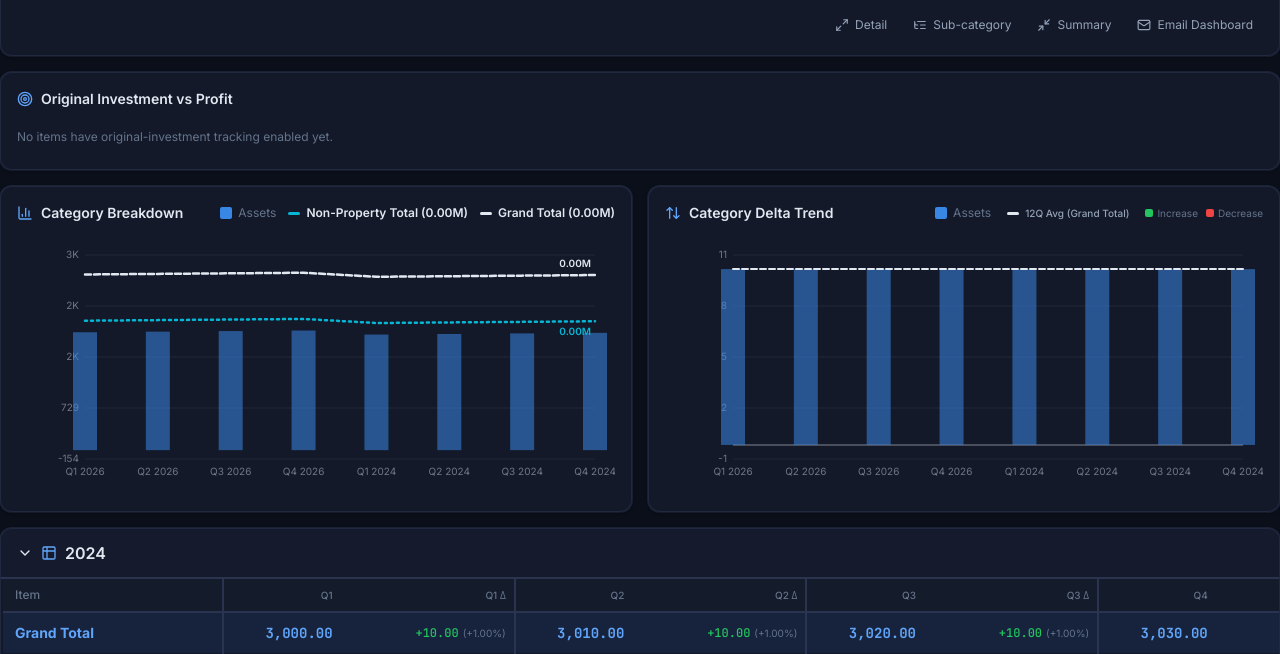
Test: TrackingDashboardPage — Year table collapse › replaces a year's whole table with a collapsed header bar, without affecting the other year's table
This screenshot has width=1280, height=654.
Click the button named "Collapse 2024 table" at (85,553), box [1,529,1279,579]
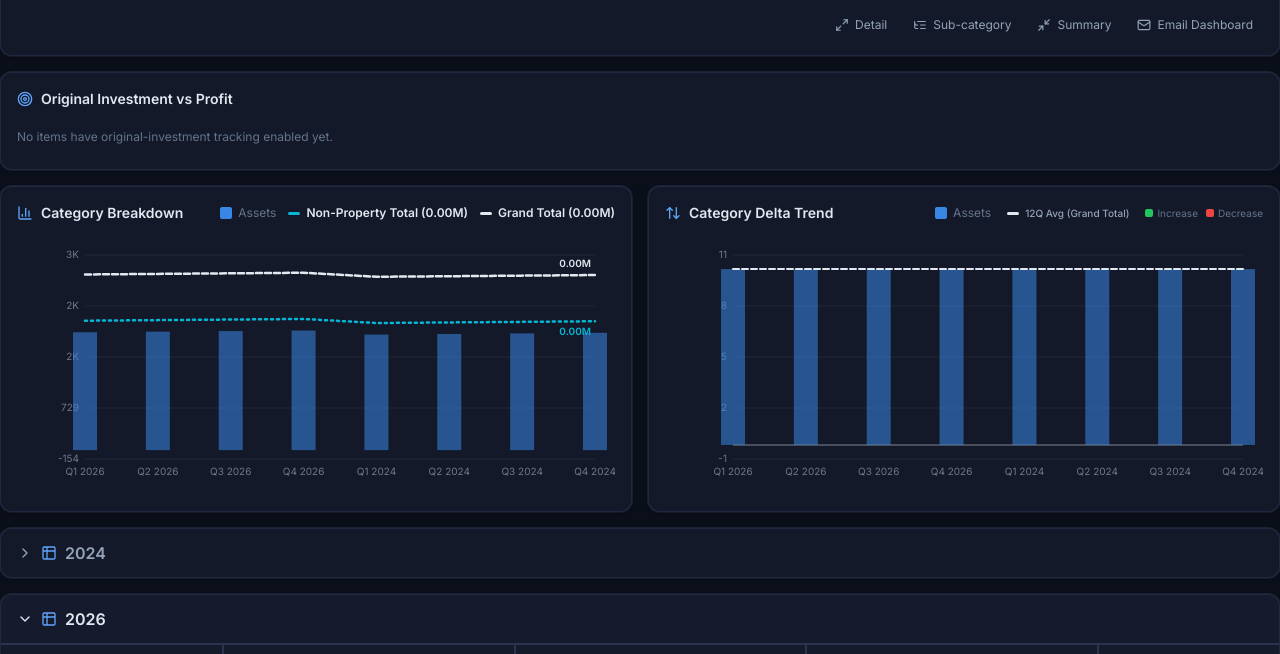
Expected: the button named "Collapse 2026 table" is shown, [1,595,1279,645]
Expected: the button named "Expand 2024 table" is shown
Click the button named "Expand 2024 table" at (85,553), box [1,529,1279,577]
(page scrolled)
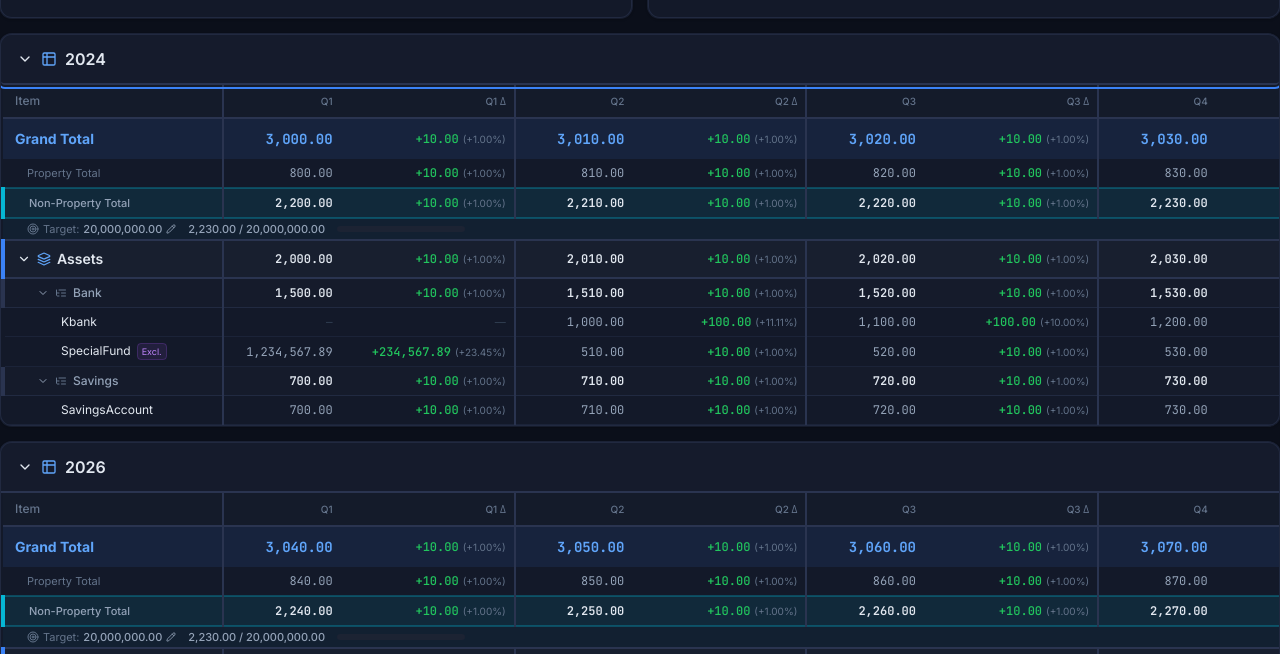
Expected: the button named "Collapse 2024 table" is shown, [1,35,1279,85]
